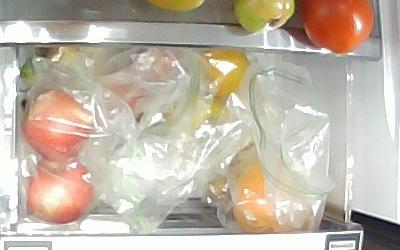apple_vinyl: (24, 87, 94, 161), (29, 156, 95, 221)
grapefruit_vinyl: (231, 155, 312, 233)
persimmon_vinyl: (201, 49, 250, 99)
